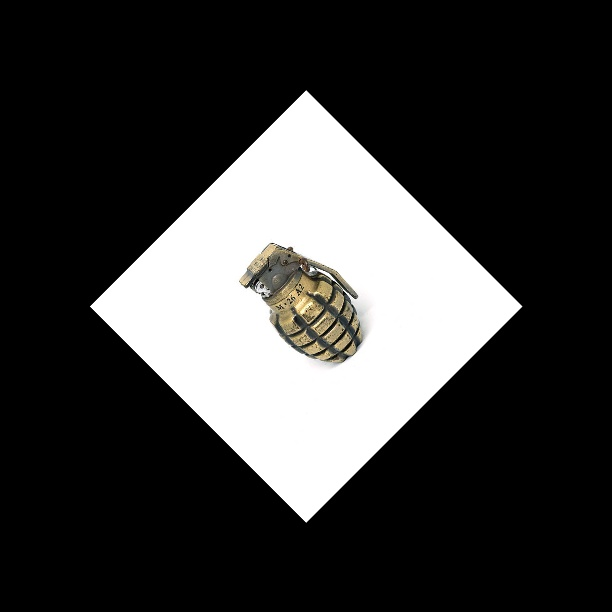e1: (240, 242, 364, 365)
